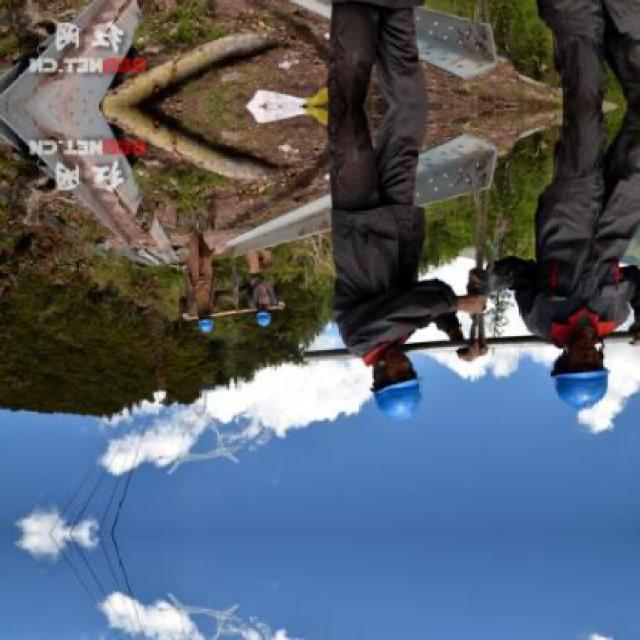con casco: (514, 286, 634, 424), (335, 321, 436, 429)
